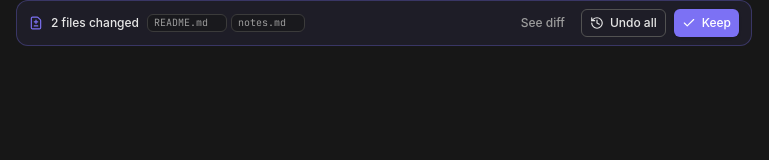
a folder that isn't a Git repository gets a note instead of a diff
Click the button "README.md": [181, 23] box top-left (154, 16), bottom-right (208, 30)
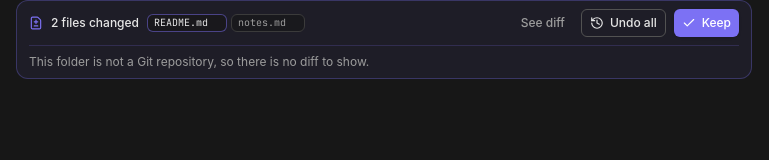
Expected: the text "not a Git repository" is shown, top-left (29, 54), bottom-right (369, 69)
